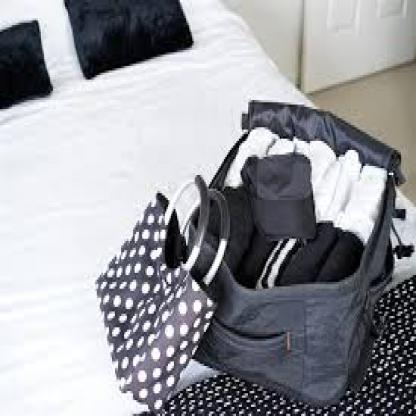maleta: (189, 73, 393, 402)
